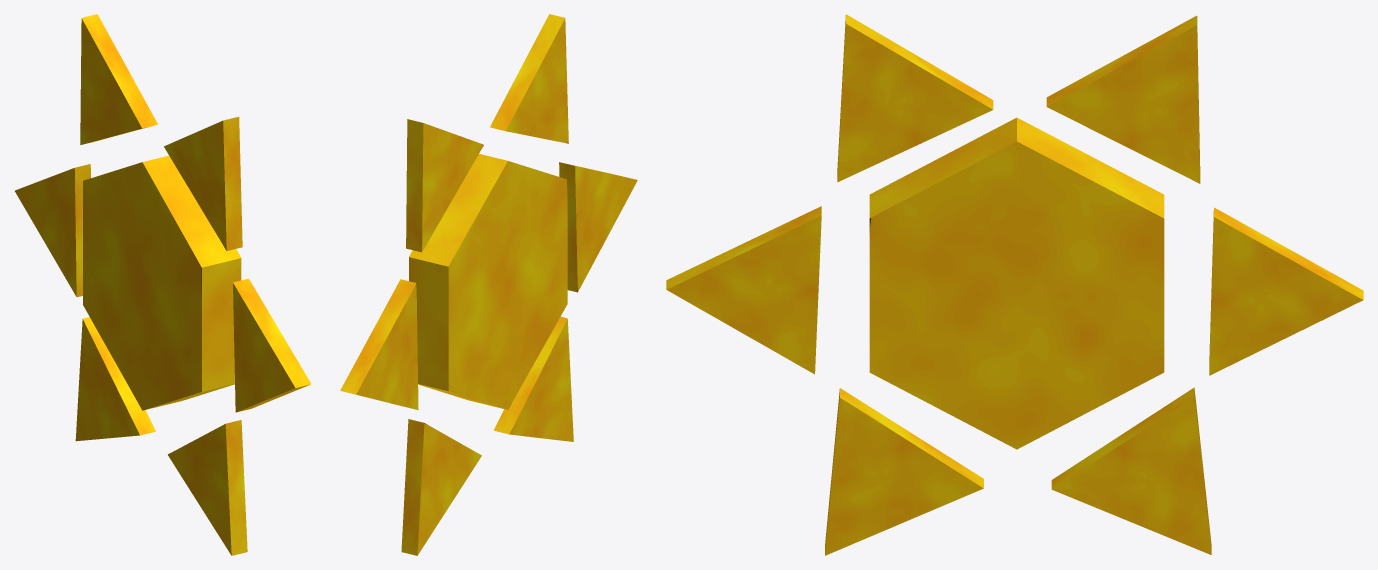
The model's file is Sun.fbx.
The picture shows the model from 3 angles, left to right: view 1: azimuth 30°, elevation 25°; view 2: azimuth 150°, elevation 25°; view 3: azimuth 270°, elevation 25°; orthographic projection. The views are drawn at different scales.
Parts seen in each view (by area): view 1: sun:pCylinder13; view 2: sun:pCylinder13; view 3: sun:pCylinder13.
Boxes of the visible parts, box(x1,y1,x2,y2) form: sun:pCylinder13: box(15, 14, 310, 555); sun:pCylinder13: box(340, 14, 637, 555); sun:pCylinder13: box(666, 14, 1363, 555).
Bounding box in the file's own units: 0.3047 × 3.16 × 3.75.
